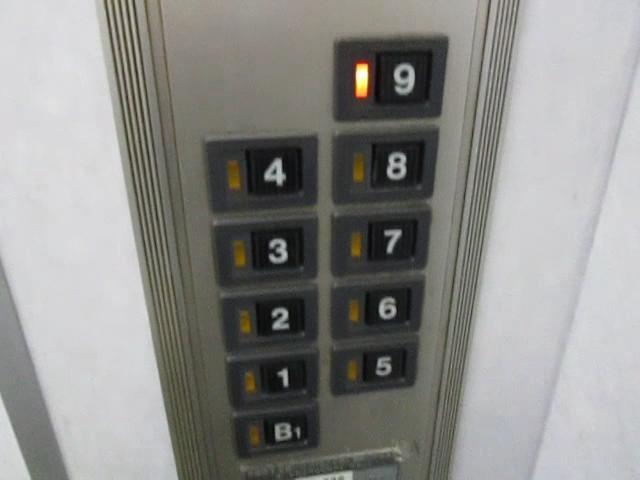1: (223, 350, 319, 406)
2: (216, 286, 318, 353)
3: (212, 214, 320, 290)
4: (203, 130, 319, 215)
5: (331, 336, 420, 397)
6: (329, 278, 426, 339)
7: (332, 204, 431, 276)
8: (331, 127, 437, 200)
9: (333, 32, 450, 119)
B1: (231, 400, 321, 457)
